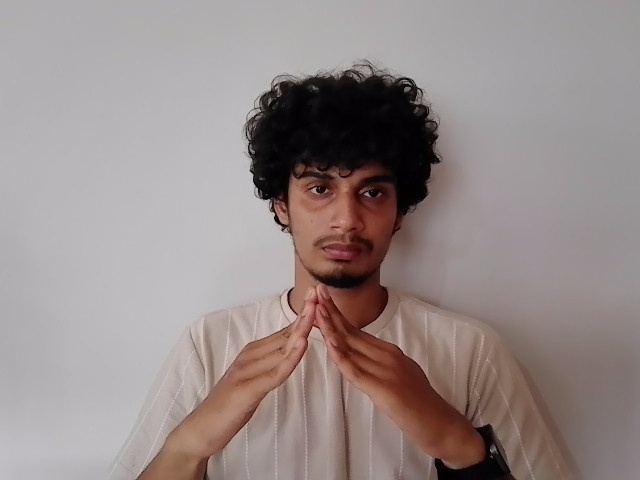home: (201, 284, 465, 449)
